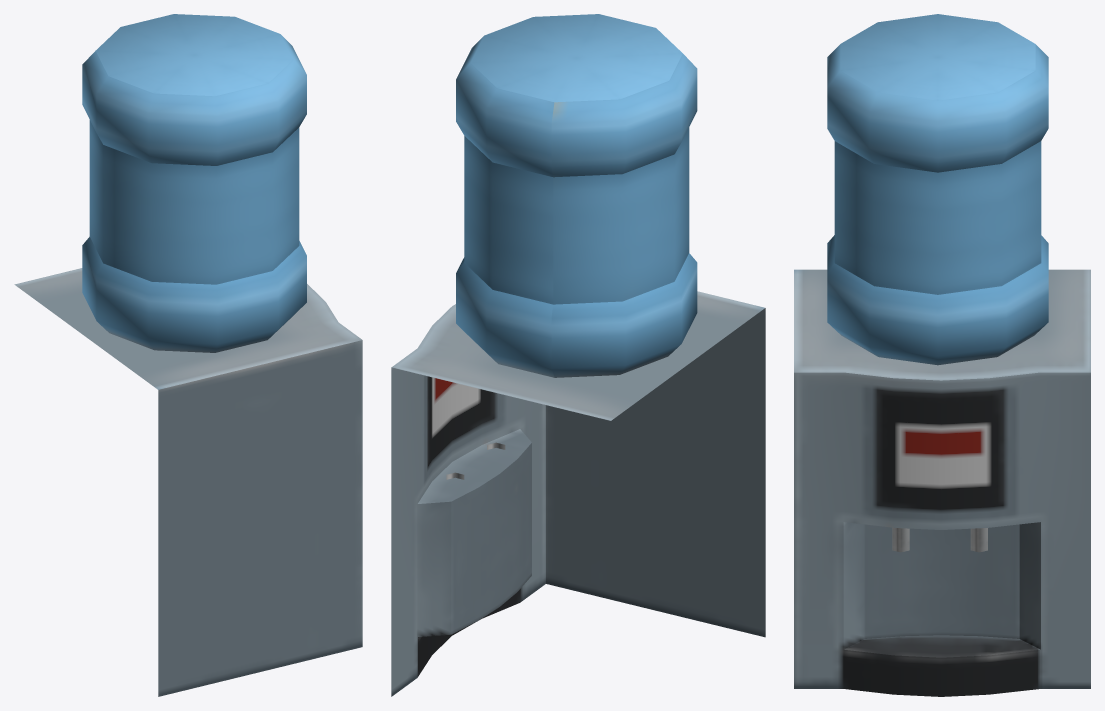
File: TianZhuJiaoTang_01_yinshuiji_01.FBX
3 views of the same model, side by side, from view 1: azimuth 30°, elevation 25°; view 2: azimuth 150°, elevation 25°; view 3: azimuth 270°, elevation 25° (orthographic). The views are drawn at different scales.
Parts seen in each view (by area): view 1: TianZhuJiaoTang_01_yinshuiji_01; view 2: TianZhuJiaoTang_01_yinshuiji_01; view 3: TianZhuJiaoTang_01_yinshuiji_01.
Boxes of the visible parts, bbox=[...] form: TianZhuJiaoTang_01_yinshuiji_01: bbox=[14, 14, 362, 696]; TianZhuJiaoTang_01_yinshuiji_01: bbox=[391, 14, 765, 696]; TianZhuJiaoTang_01_yinshuiji_01: bbox=[794, 14, 1090, 696].
Size of the model in its own units: 149 by 365 by 169.
